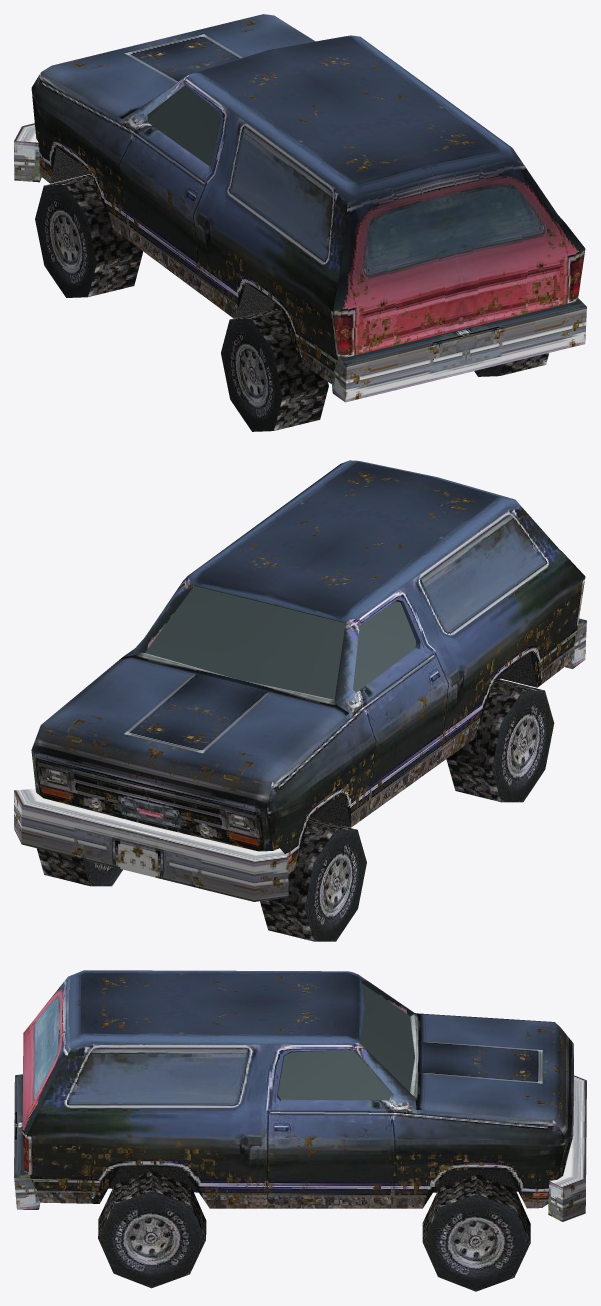
File: p54_01_suv_offroad_navy.glb
3 views of the same model, one above another, from view 1: azimuth 30°, elevation 25°; view 2: azimuth 150°, elevation 25°; view 3: azimuth 270°, elevation 25° (orthographic). The views are drawn at different scales.
Parts seen in each view (by area): view 1: Body, Glass; view 2: Body, Glass; view 3: Body, Glass.
Part boxes in pixels (box(x1,y1,x2,y2)): Body: box(14, 14, 586, 431); Glass: box(147, 85, 220, 166); Body: box(14, 460, 586, 941); Glass: box(145, 586, 415, 699); Body: box(14, 970, 586, 1291); Glass: box(277, 983, 414, 1100).
Bounding box in the file's own units: 2.04 × 1.89 × 4.22.
2 materials, 2 textured.
